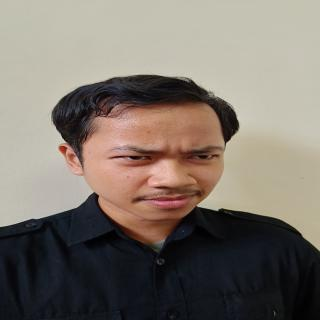Marah: (78, 98, 235, 226)
